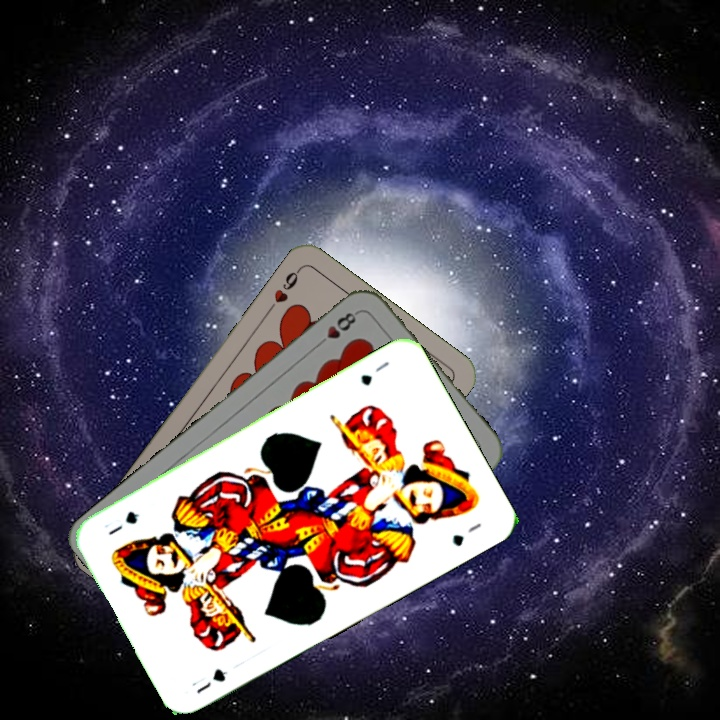GU: (187, 664, 230, 697), (356, 357, 392, 388)
H8: (312, 307, 361, 350)
H9: (263, 264, 304, 315)
